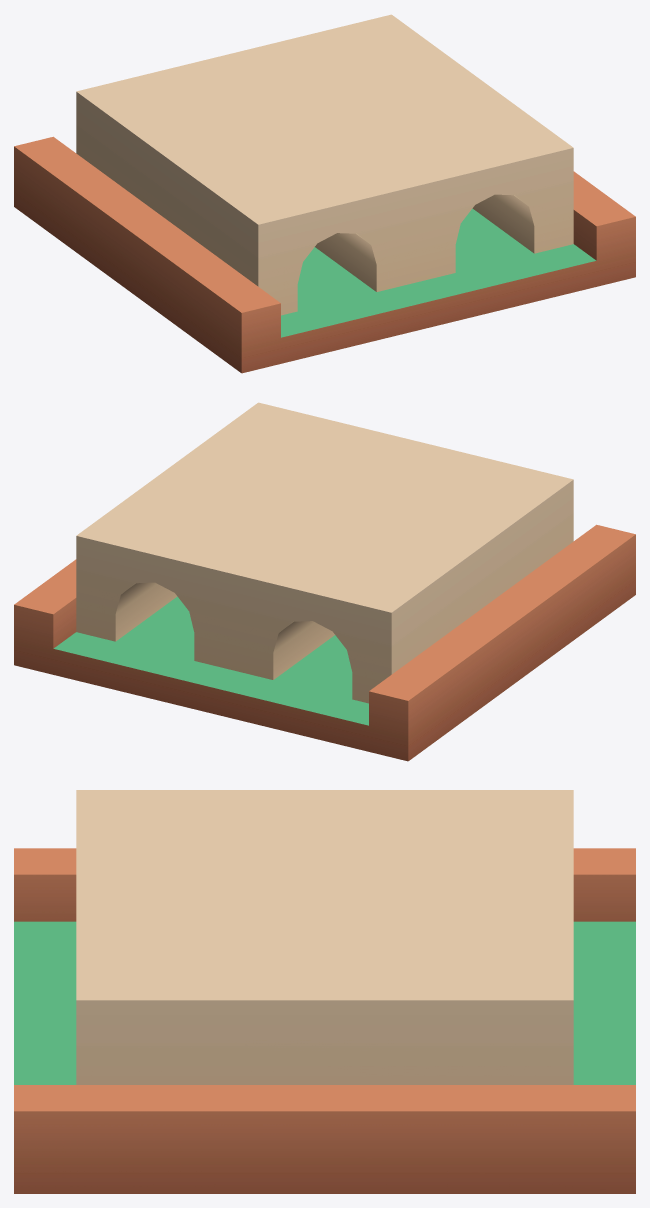
Rendered from tunnel-double.glb.
3 views of the same model, one above another, from view 1: azimuth 30°, elevation 25°; view 2: azimuth 150°, elevation 25°; view 3: azimuth 270°, elevation 25° (orthographic). The views are drawn at different scales.
Visible parts, largest first — view 1: tunnel-double; view 2: tunnel-double; view 3: tunnel-double.
Boxes of the visible parts, x1=… form: tunnel-double: x1=14, y1=14, x2=635, y2=373; tunnel-double: x1=14, y1=402, x2=635, y2=761; tunnel-double: x1=14, y1=790, x2=635, y2=1193.
Bounding box in the file's own units: 0.9999 × 0.2966 × 0.9999.
Materials: 1 (1 with a texture image).
